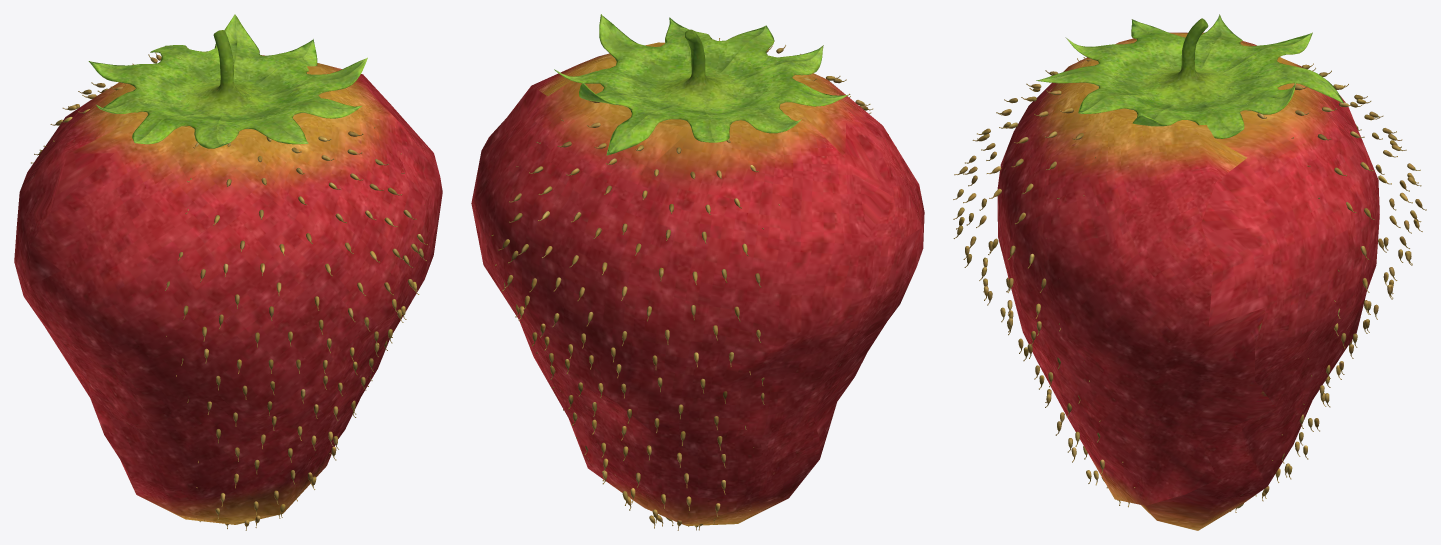
File: beautifulstrawberryglb-transformed.glb
3 views of the same model, side by side, from view 1: azimuth 30°, elevation 25°; view 2: azimuth 150°, elevation 25°; view 3: azimuth 270°, elevation 25° (orthographic). The views are drawn at different scales.
Visible parts, largest first — view 1: g.002, Strawberry, g.001; view 2: g.002, Strawberry, g.001; view 3: g.002, Strawberry, g.001.
Part boxes in pixels (x1=…): g.002: x1=14, y1=55, x2=442, y2=524; Strawberry: x1=88, y1=14, x2=367, y2=148; g.001: x1=31, y1=52, x2=429, y2=530; g.002: x1=471, y1=42, x2=924, y2=525; Strawberry: x1=554, y1=14, x2=848, y2=155; g.001: x1=491, y1=38, x2=896, y2=530; g.002: x1=997, y1=32, x2=1379, y2=530; Strawberry: x1=1036, y1=14, x2=1343, y2=138; g.001: x1=953, y1=57, x2=1426, y2=512.
Size of the model in its own units: 1.41 by 1.68 by 1.43.
Materials: 1 (1 with a texture image).
